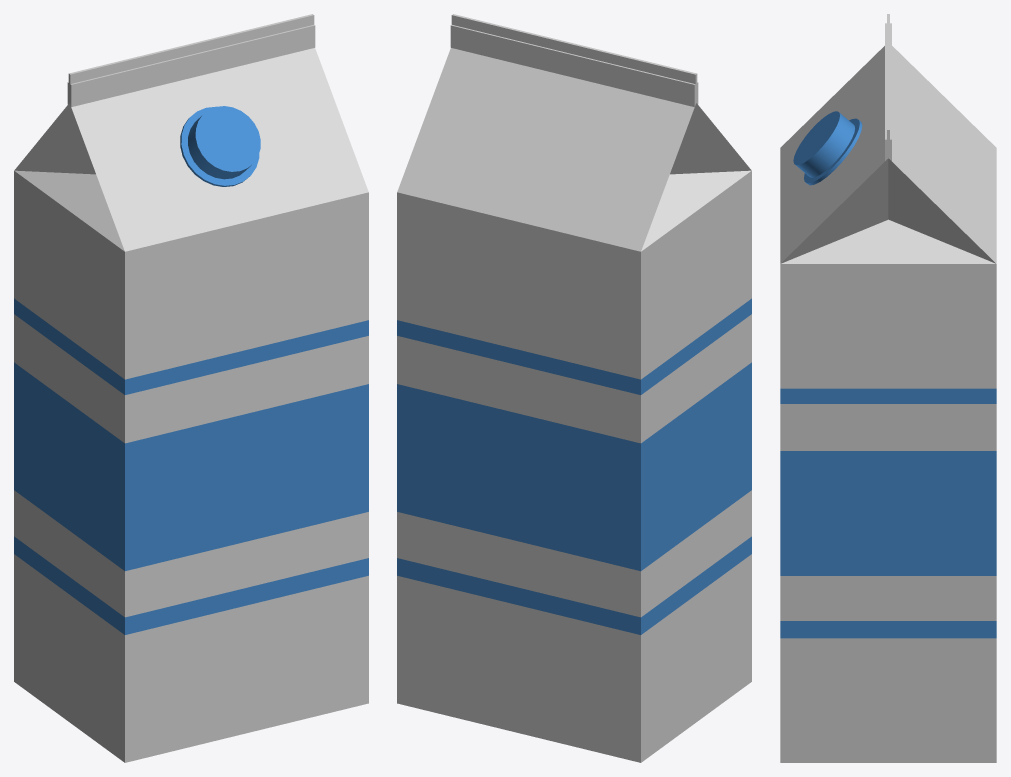
File: Milk.fbx
The picture shows the model from 3 angles, left to right: view 1: azimuth 30°, elevation 25°; view 2: azimuth 150°, elevation 25°; view 3: azimuth 270°, elevation 25°; orthographic projection. The views are drawn at different scales.
Parts seen in each view (by area): view 1: Group1; view 2: Group1; view 3: Group1.
Boxes of the visible parts, <box> form: Group1: <box>14,14,368,762</box>; Group1: <box>397,14,751,762</box>; Group1: <box>780,14,996,762</box>.
Bounding box in the file's own units: 3.8 × 9.65 × 2.99.
